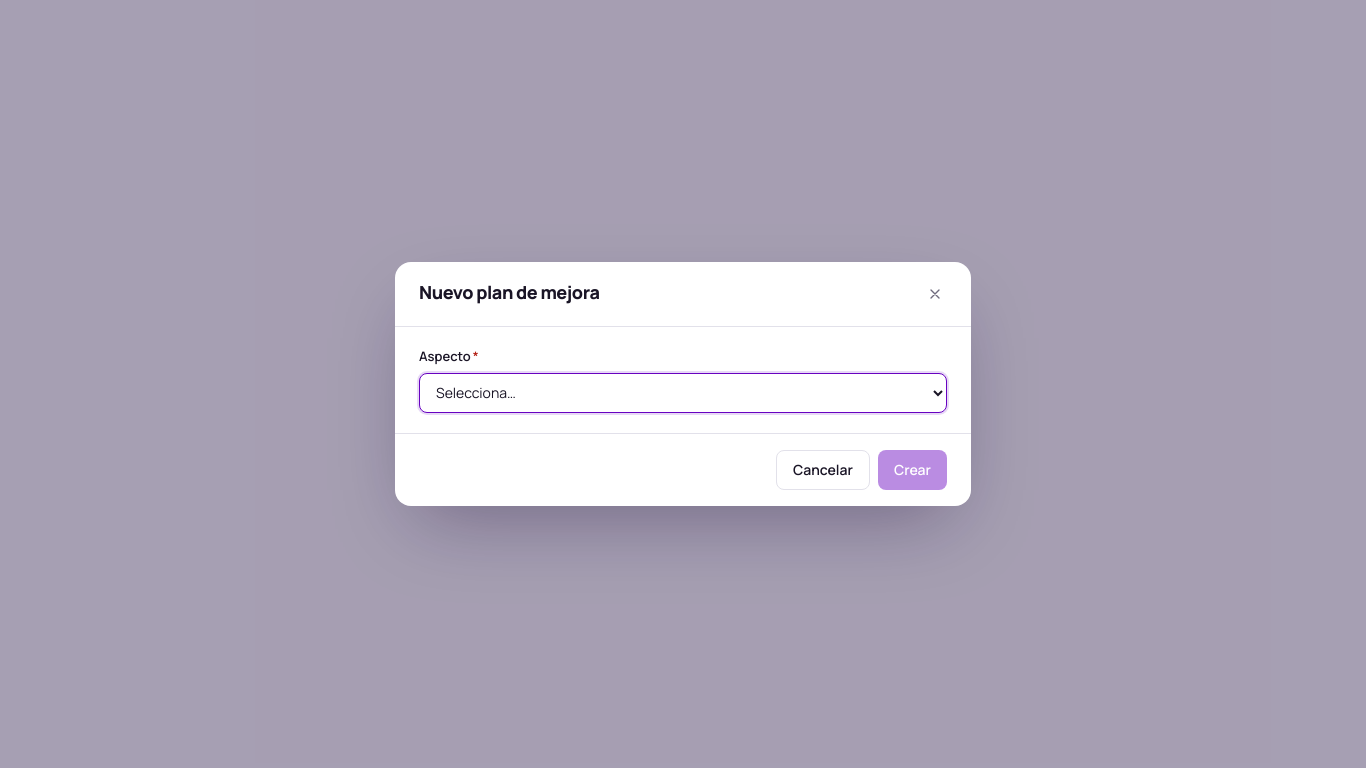
Scenario: ModalNuevoPlanMejora › limpia el elemento elegido al cambiar de aspecto
Select "Criterio de Acreditación" in the dropdown labelled "Aspecto" at (683, 393), box [419,373,947,413]
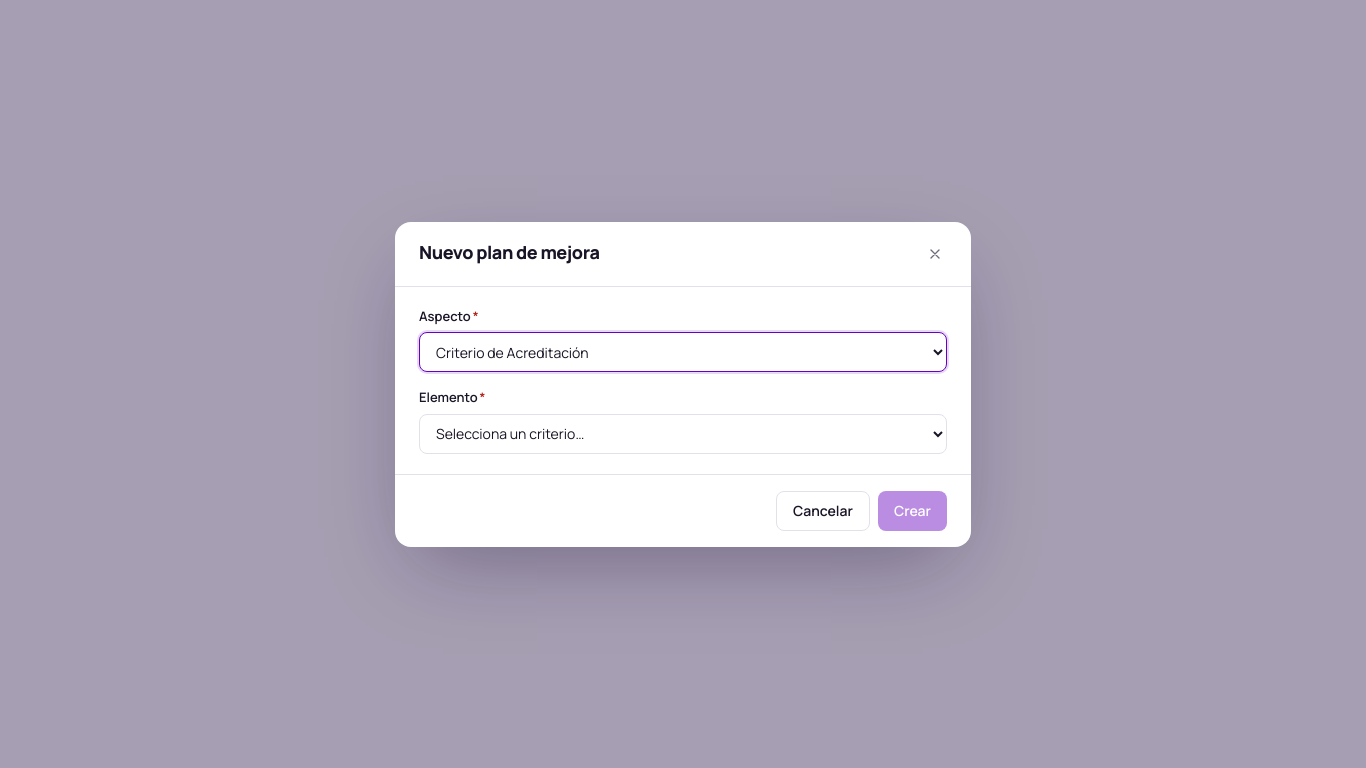
Select "C-01 — Estudiantes" in the dropdown labelled "Elemento" at (683, 434), box [419,414,947,454]
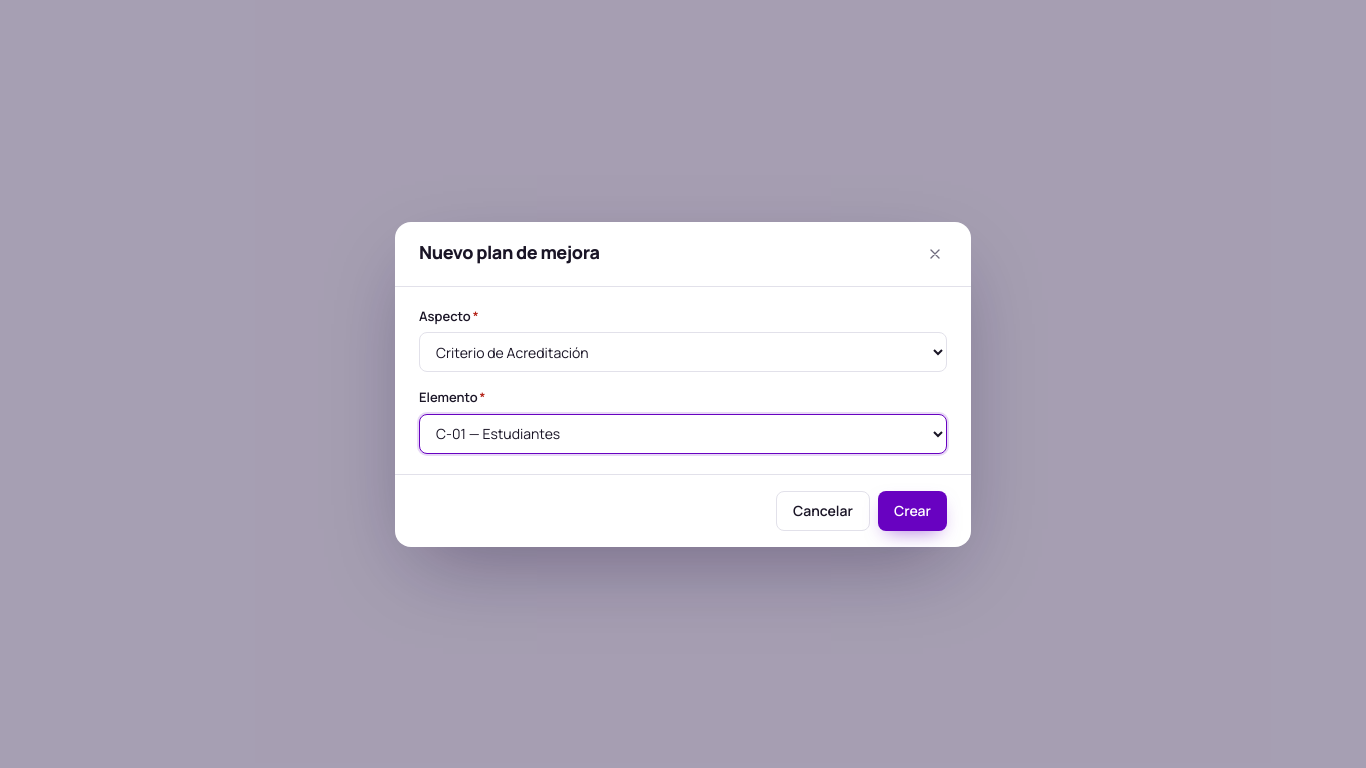
Select "Objetivo Educacional" in the dropdown labelled "Aspecto" at (683, 352), box [419,332,947,372]
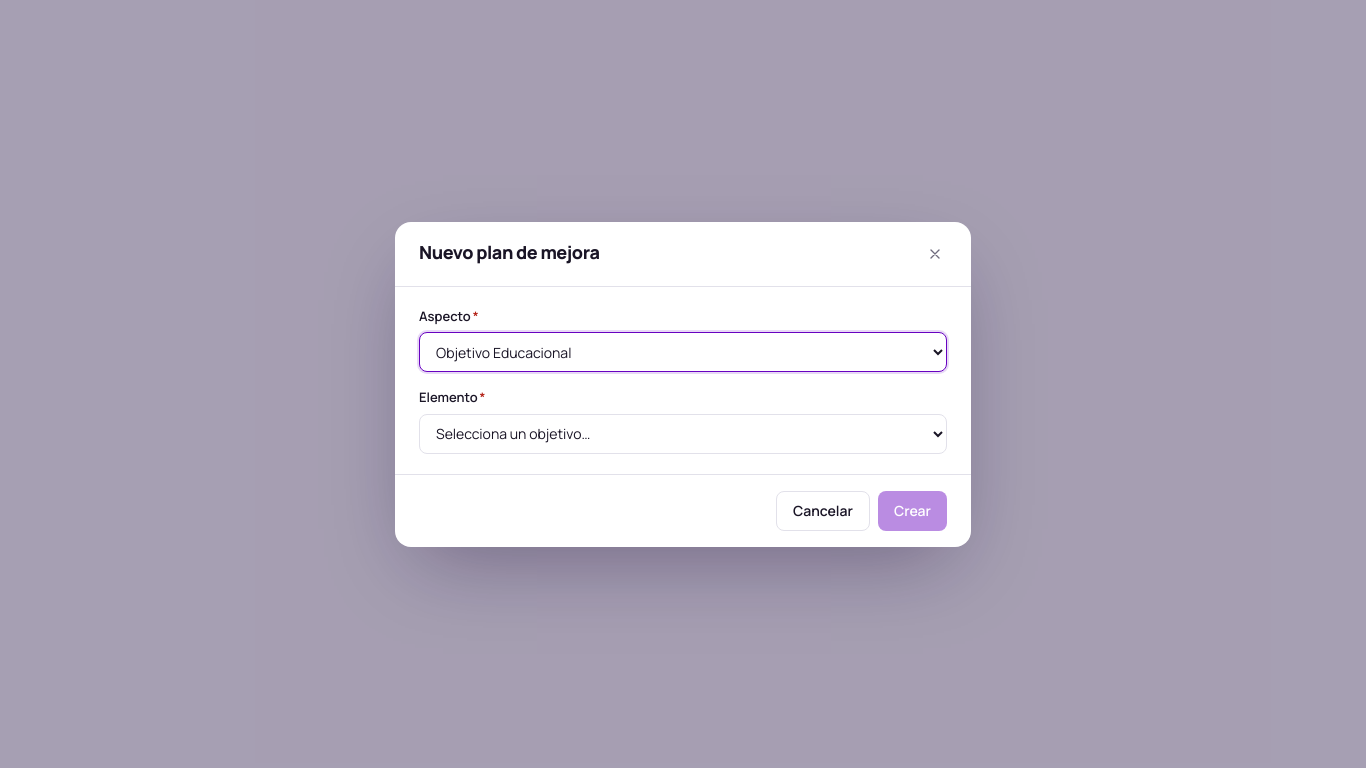
Check: the dropdown labelled "Elemento" shows "Selecciona un objetivo…", box [419,414,947,454]
Select "Criterio de Acreditación" in the dropdown labelled "Aspecto" at (683, 352), box [419,332,947,372]
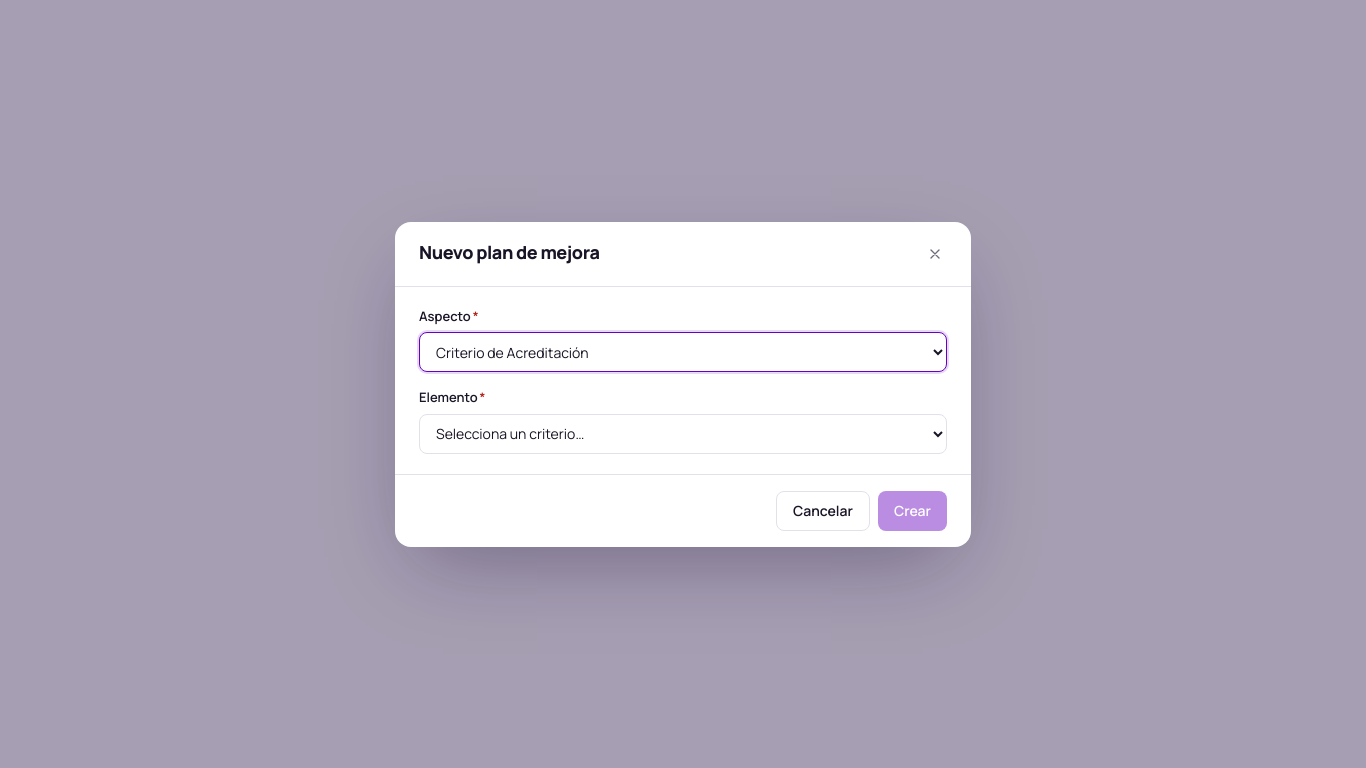
Check: the dropdown labelled "Elemento" shows "Selecciona un criterio…", box [419,414,947,454]
